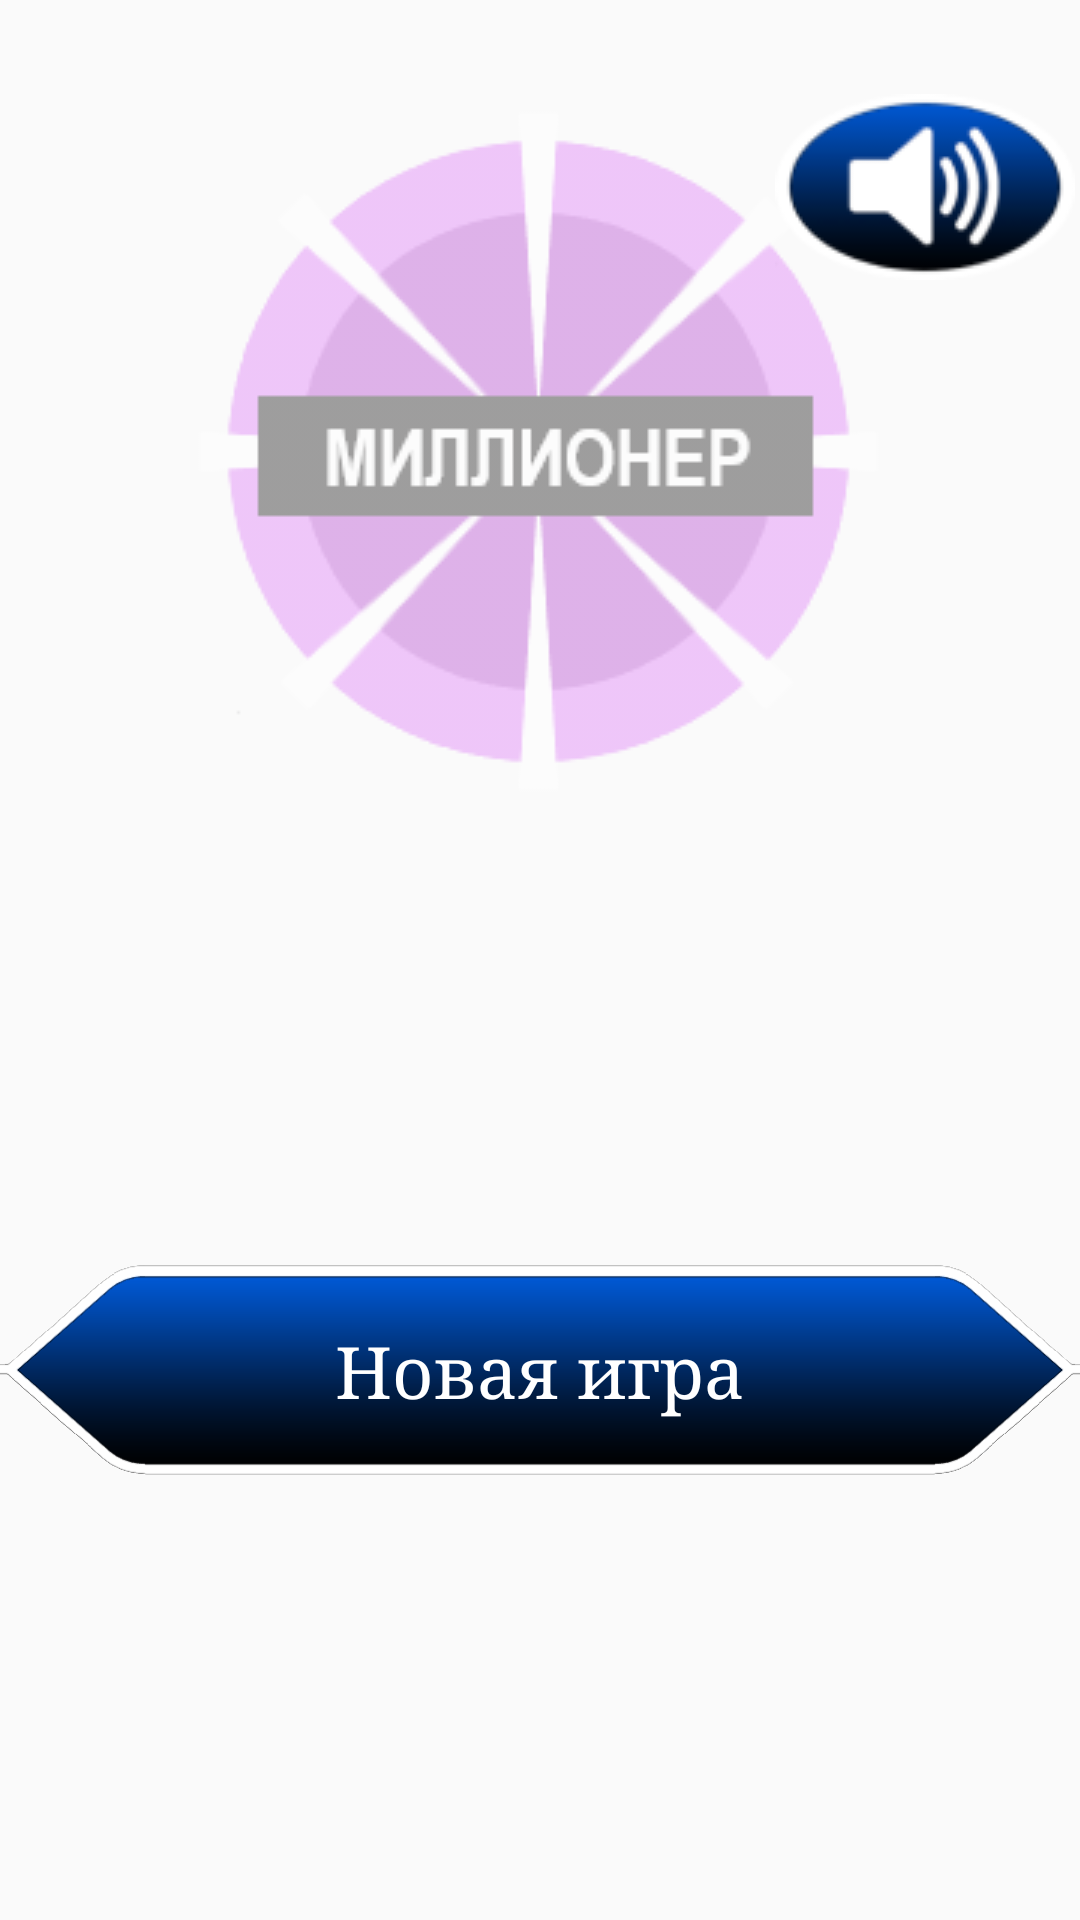

Point at icon controls on the screen. Image size 1080 x 1920, points as point (x, y).
zvuk: point (925, 187)
